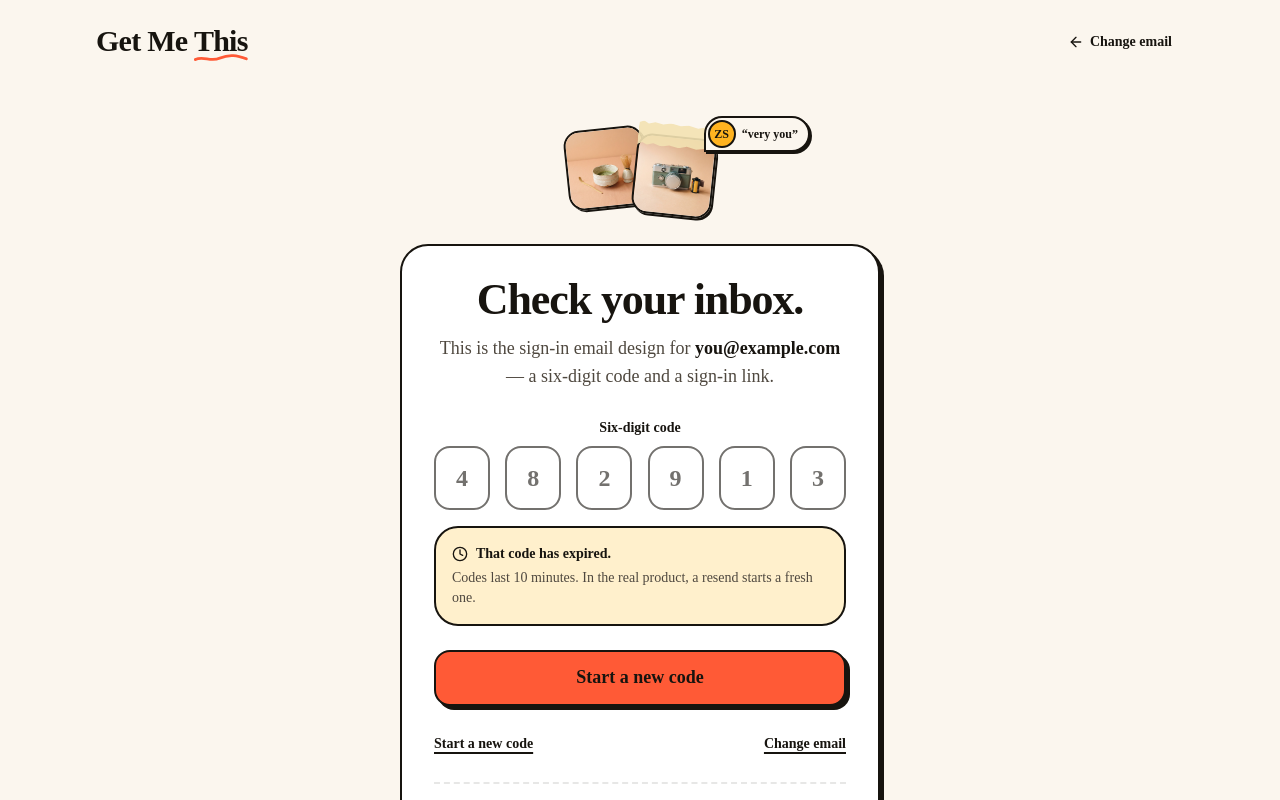
Scenario: VerifyScreen › resends without any delivery claim: the countdown resets visibly
Click the button "Start a new code" below "That code has expired." at coordinates (640, 678), box [434,650,846,706]
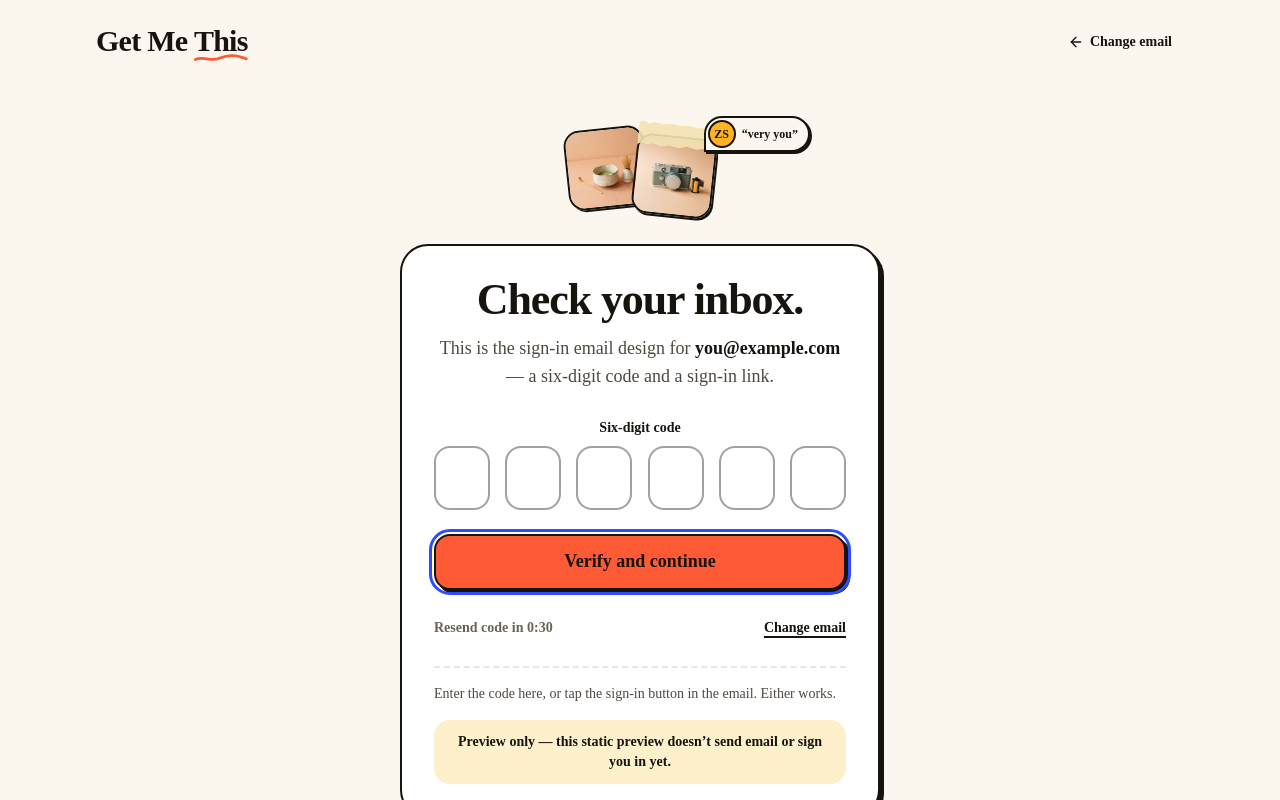
Result: the text "Resend code in 0:30" is shown at [434,620,553,635]
